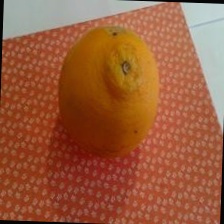orange: (28, 28, 184, 224)
